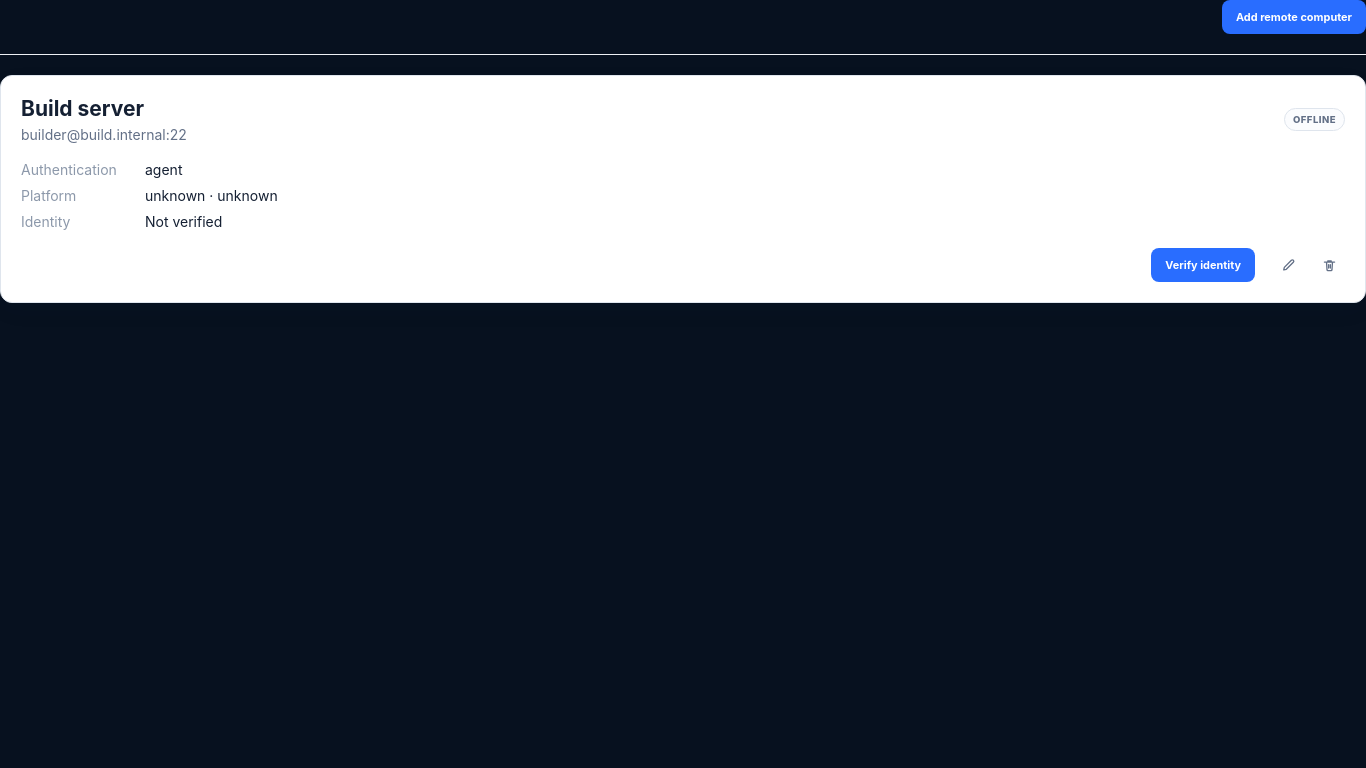
Test case: RemoteTargetsView › edits an existing profile and replaces the card with saved data
Click the button named "Edit Build server" at coordinates (1288, 265), box [1272,249,1304,281]
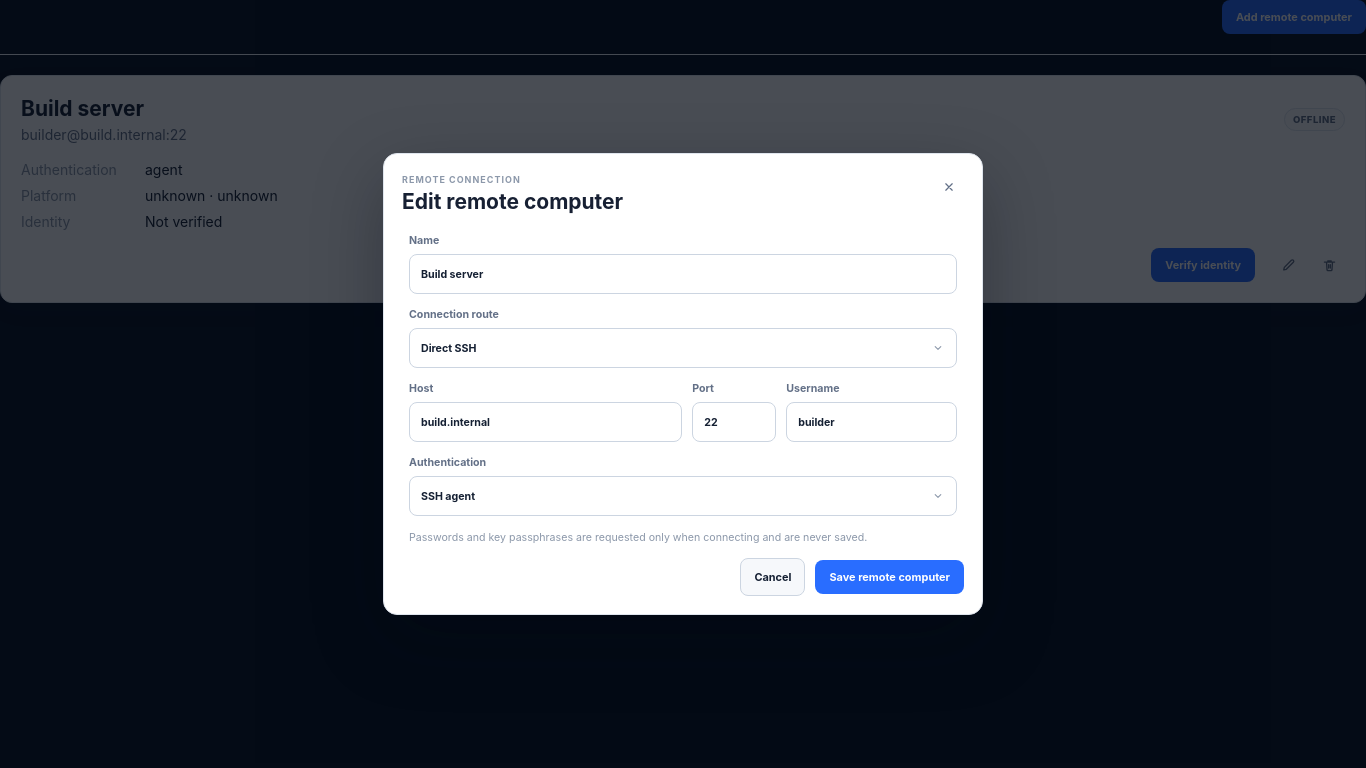
Replace the text in the field labelled "Name" with "Renamed server" at coordinates (683, 274), box [409,254,957,294]
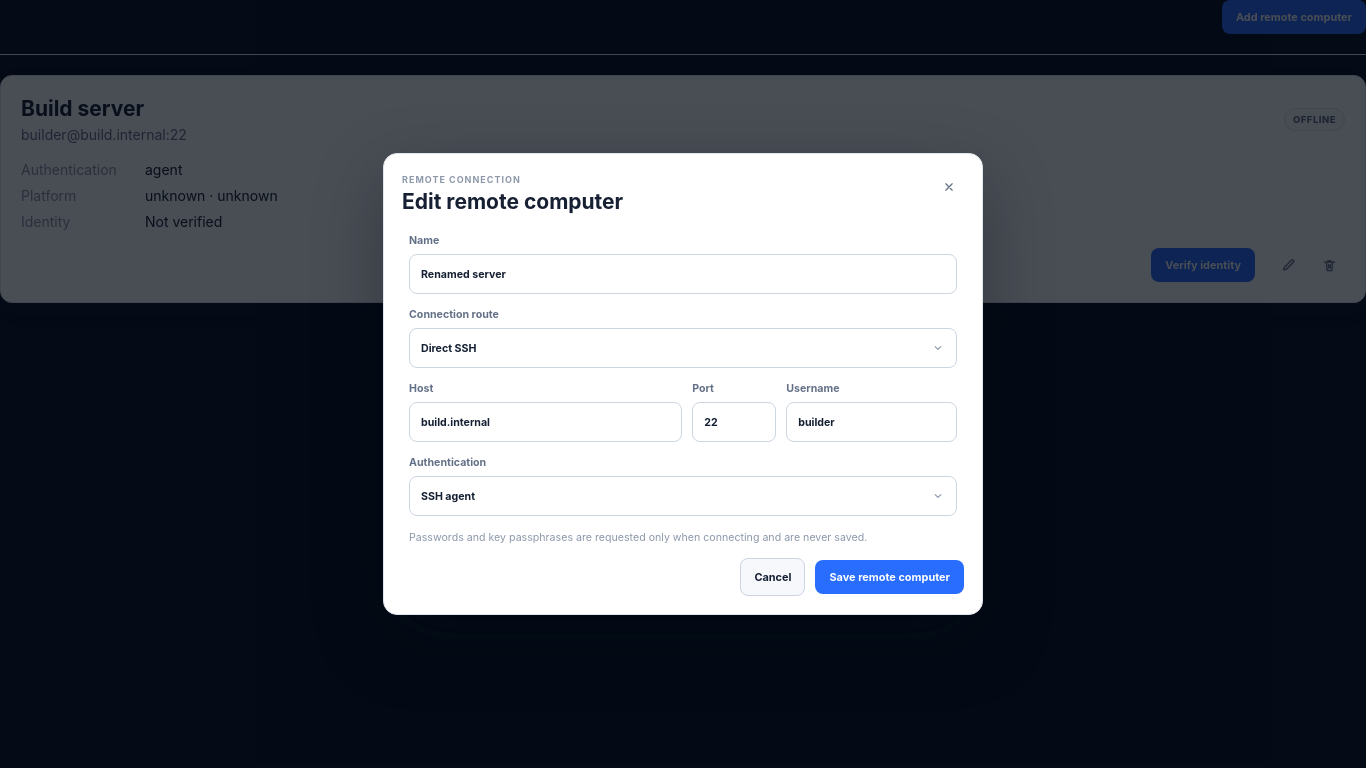
Click the button "Save remote computer" at coordinates (890, 577), box [816,560,964,594]
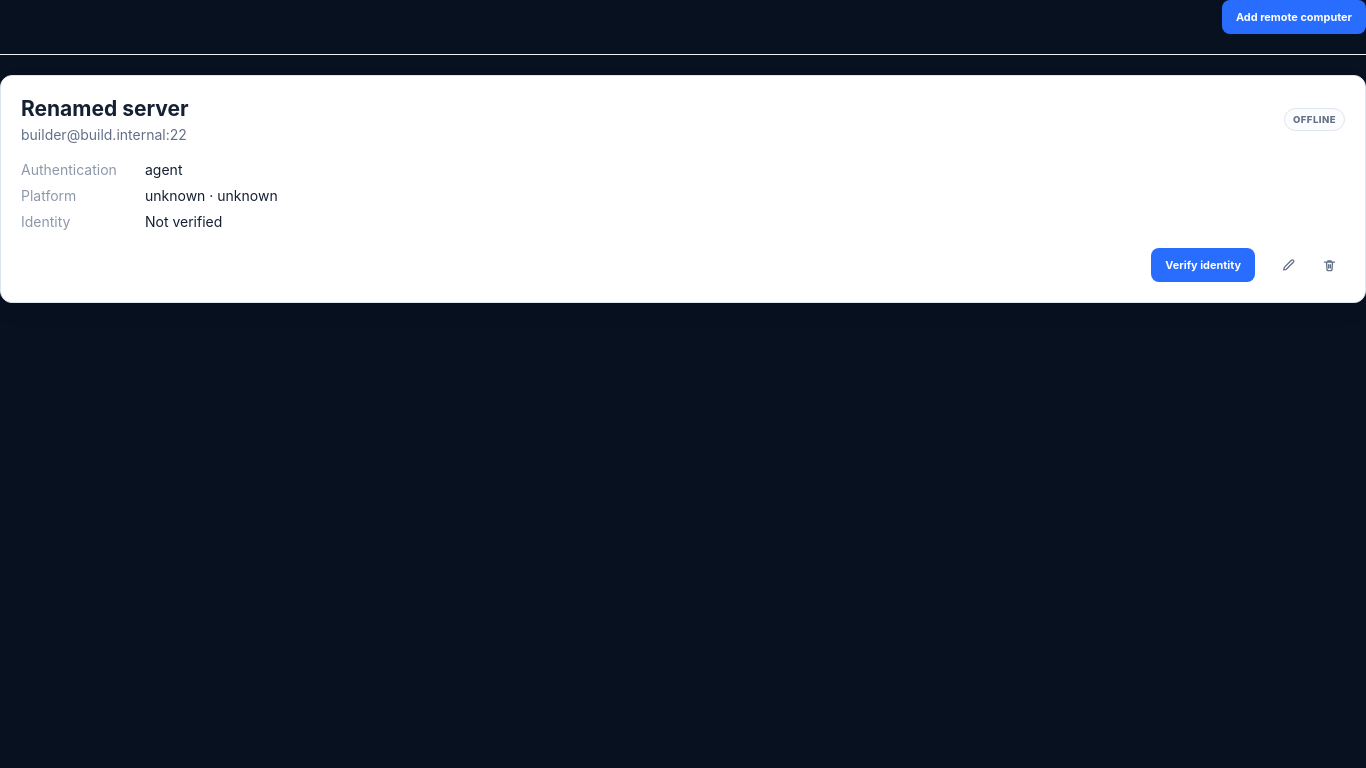
Expected: the heading "Renamed server" is shown, [21,96,189,121]
